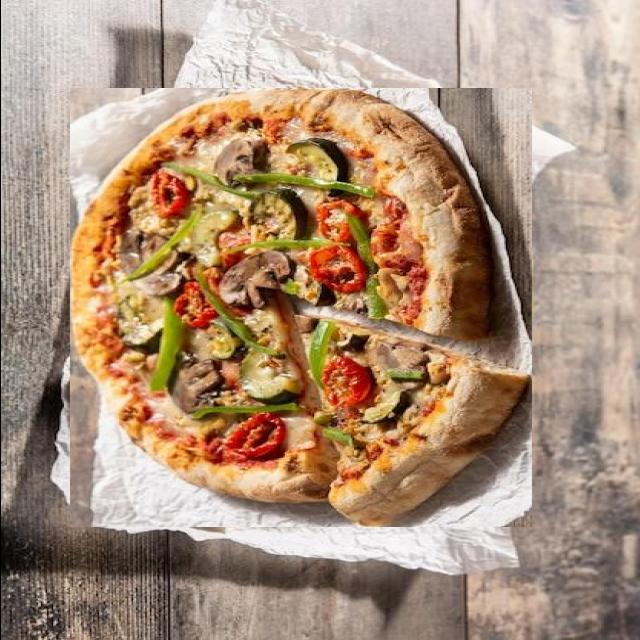pizza: (69, 88, 531, 527)
